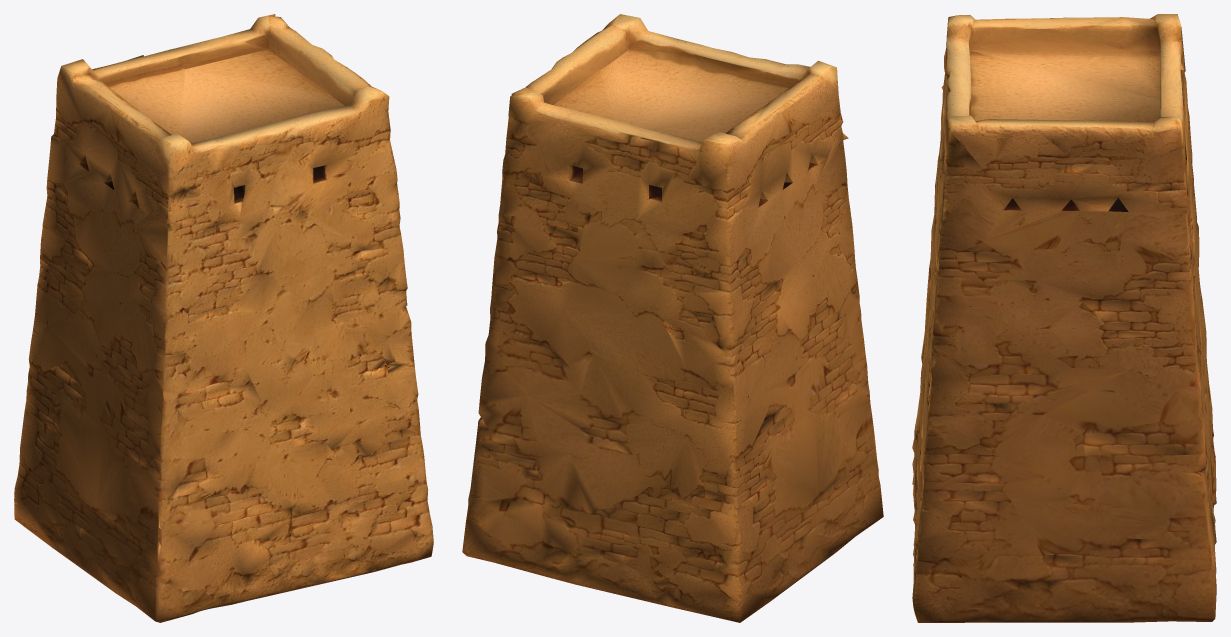
The model's file is tower.glb.
3 views of the same model, side by side, from view 1: azimuth 30°, elevation 25°; view 2: azimuth 150°, elevation 25°; view 3: azimuth 270°, elevation 25° (orthographic). The views are drawn at different scales.
Parts seen in each view (by area): view 1: Tower; view 2: Tower; view 3: Tower.
Part boxes in pixels (x1,y1,x2,y2): Tower: [14, 14, 433, 622]; Tower: [462, 14, 883, 622]; Tower: [912, 14, 1216, 622].
Bounding box in the file's own units: 5.03 × 8 × 4.53.
Materials: 1 (1 with a texture image).
